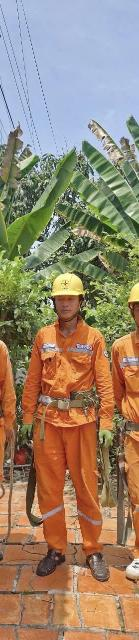gloves: (19, 415, 40, 447), (91, 427, 114, 451)
harness: (35, 388, 111, 416)
helmet: (42, 267, 90, 303), (118, 282, 139, 310)
shoes: (80, 542, 112, 588), (33, 538, 65, 579), (120, 549, 139, 590)
